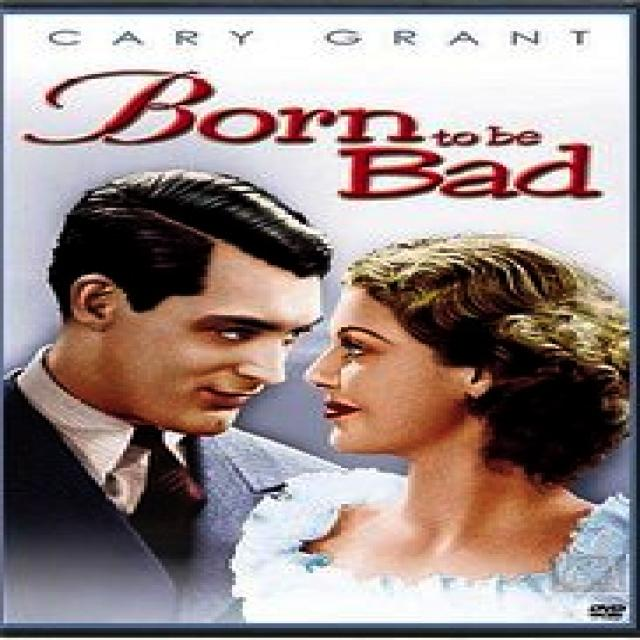movie-judul: (16, 64, 627, 202)
picture: (8, 172, 633, 626)
